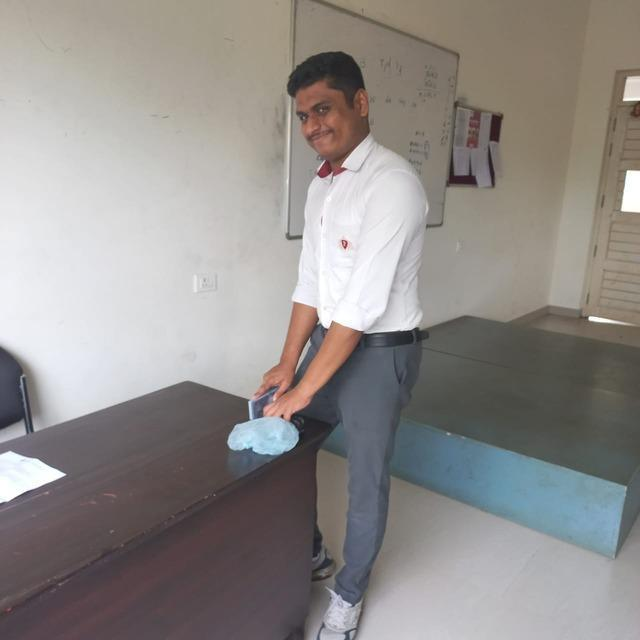bare_hand: (263, 387, 311, 420), (259, 361, 294, 404)
